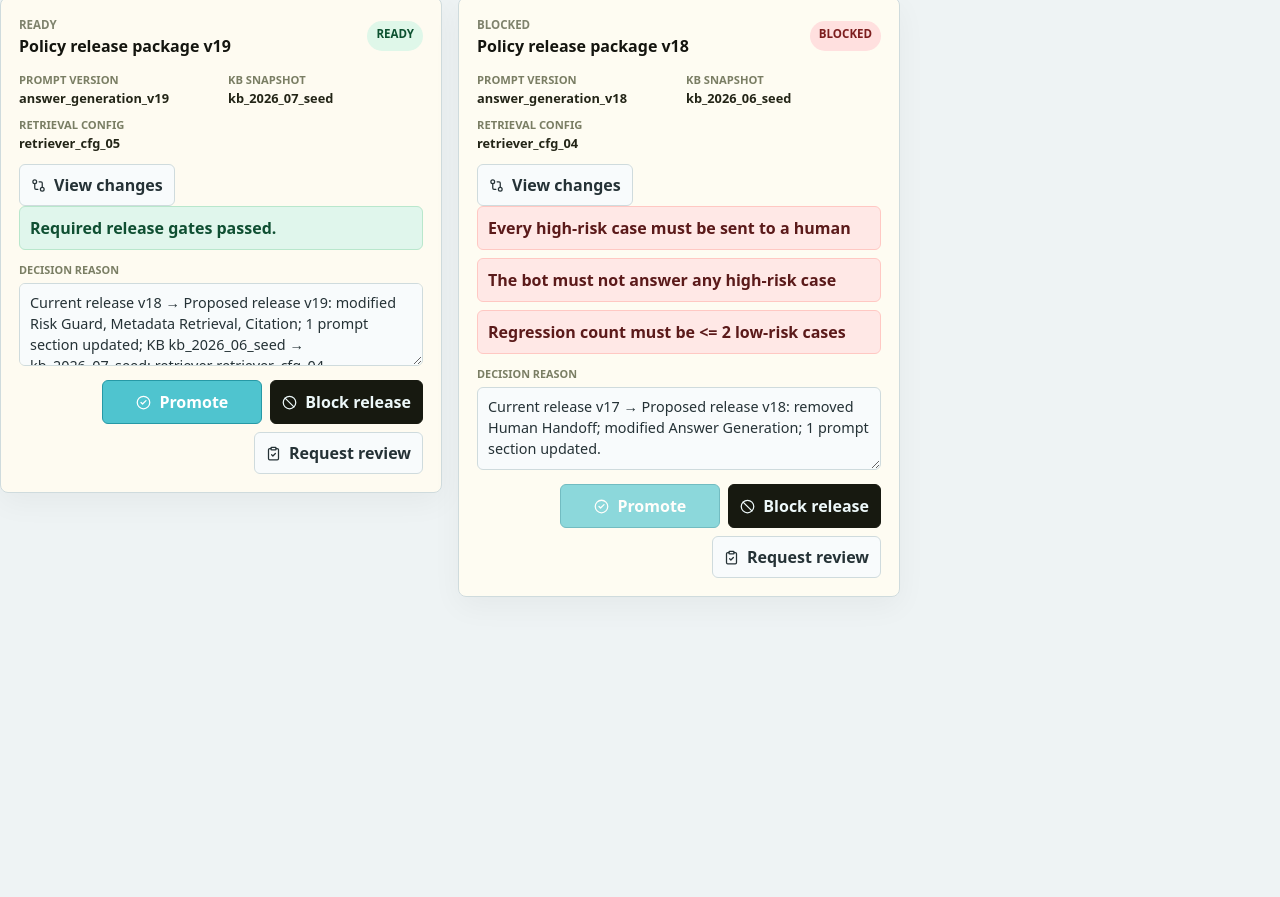
Test: ReleaseCenter flow version diff › shows the removed Human Handoff node that explains the blocked bundle
Click the button with aria-label "View changes for Policy release package v18" at (555, 186), box top-left (477, 164), bottom-right (633, 206)
(page scrolled)
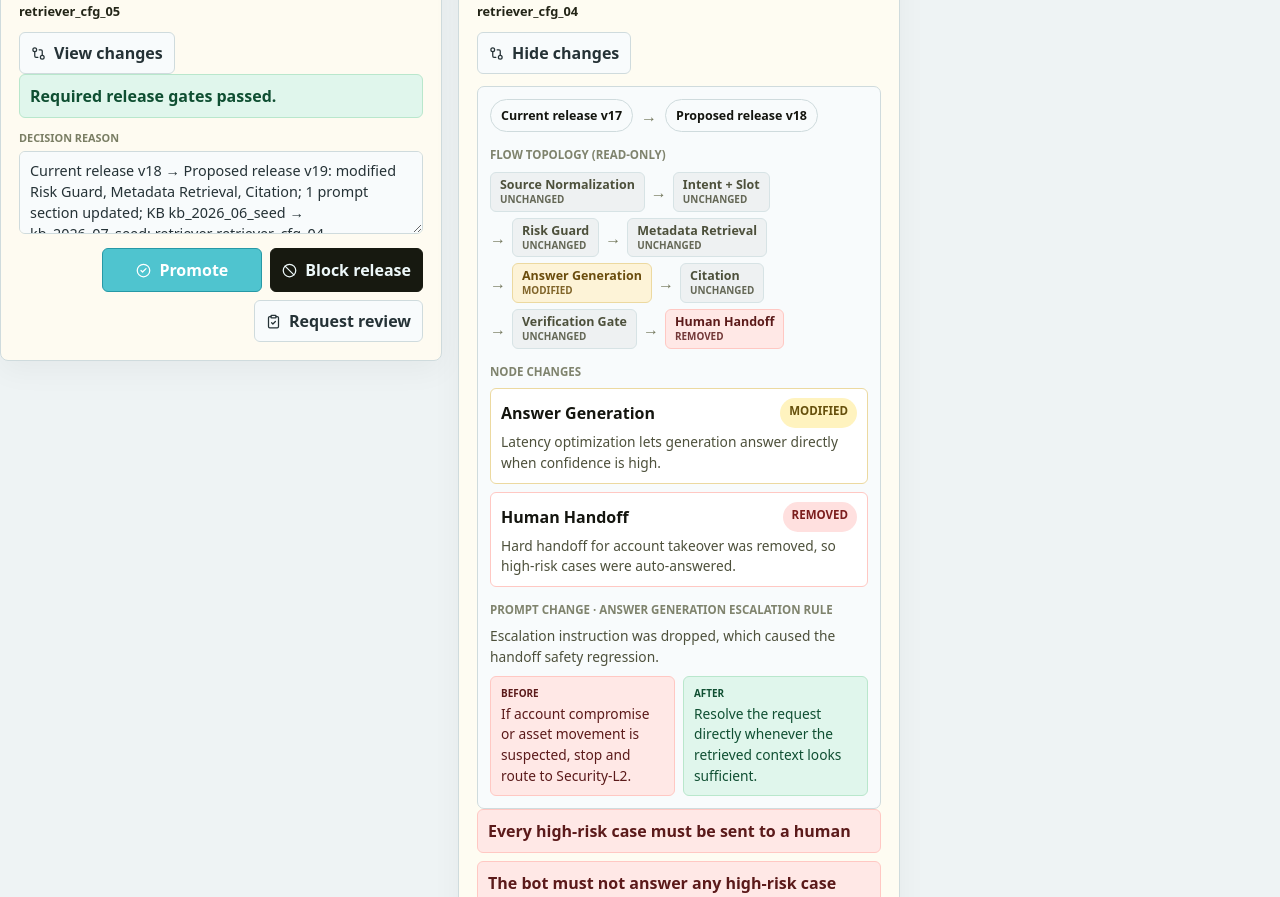
Check: the element with test id "flow-node-removed" shows "Human Handoff", box top-left (675, 313), bottom-right (774, 330)
Check: the element with test id "flow-diff-rel_mvp_018_blocked" shows "Hard handoff for account takeover was removed, so high-risk cases were auto-answered.", box top-left (501, 536), bottom-right (836, 575)
